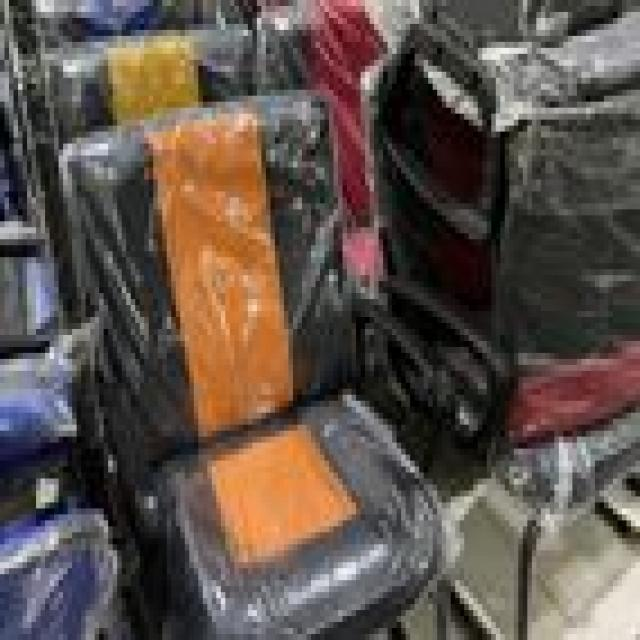others: (4, 6, 636, 640)
